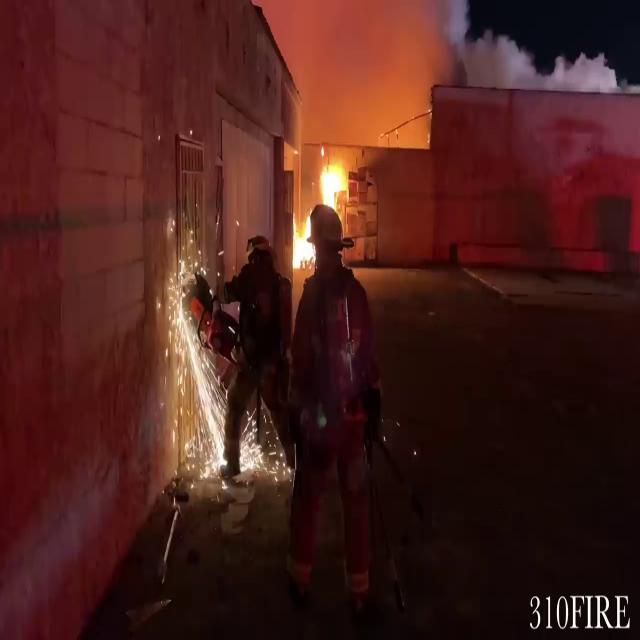Fire: (290, 150, 356, 270)
